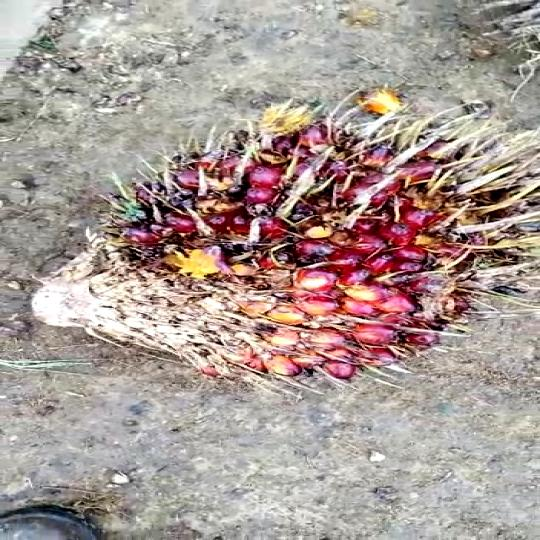masak: (35, 117, 540, 379)
